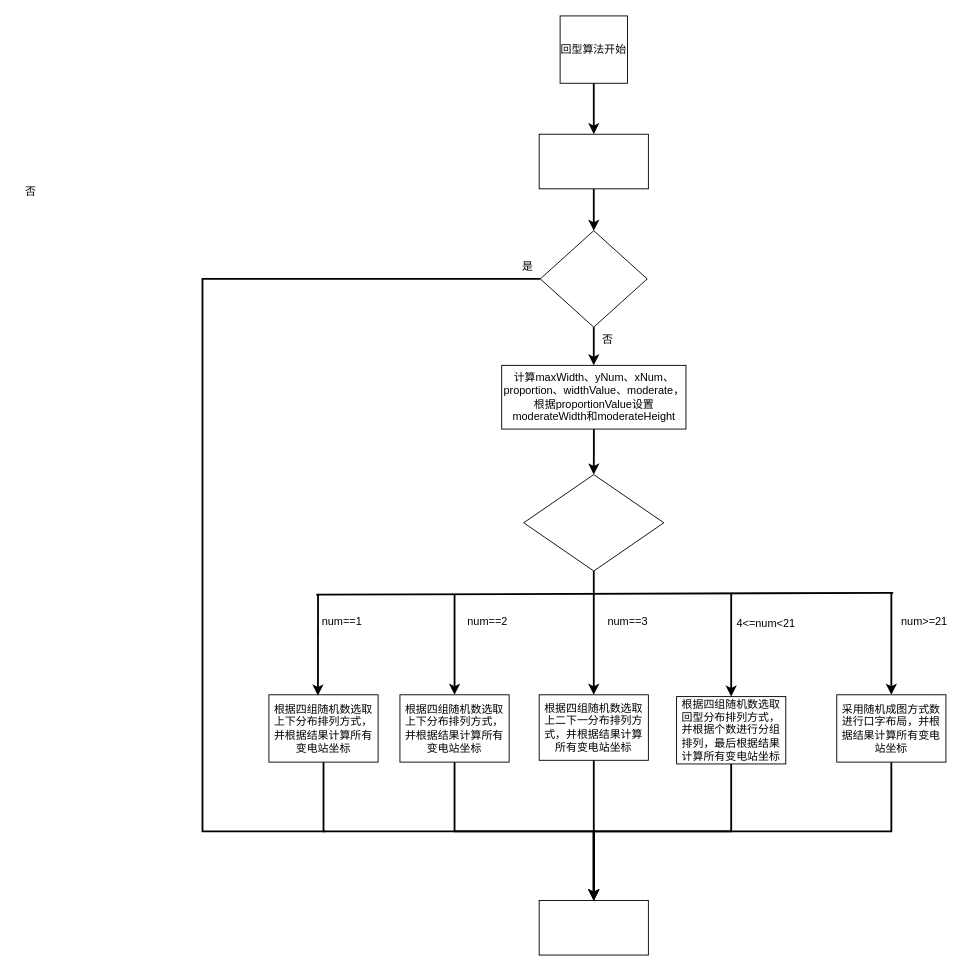
This 971x971 diagram has some shape labels left out. The centre of each missing label's shape, as x and y in pixels:
变电站个数是否为0: point 593,278
根据变电站个数进行筛选: point 593,161
根据当前设置好 的画布居中 设置主站坐标: point 593,522
结束: point 593,927
